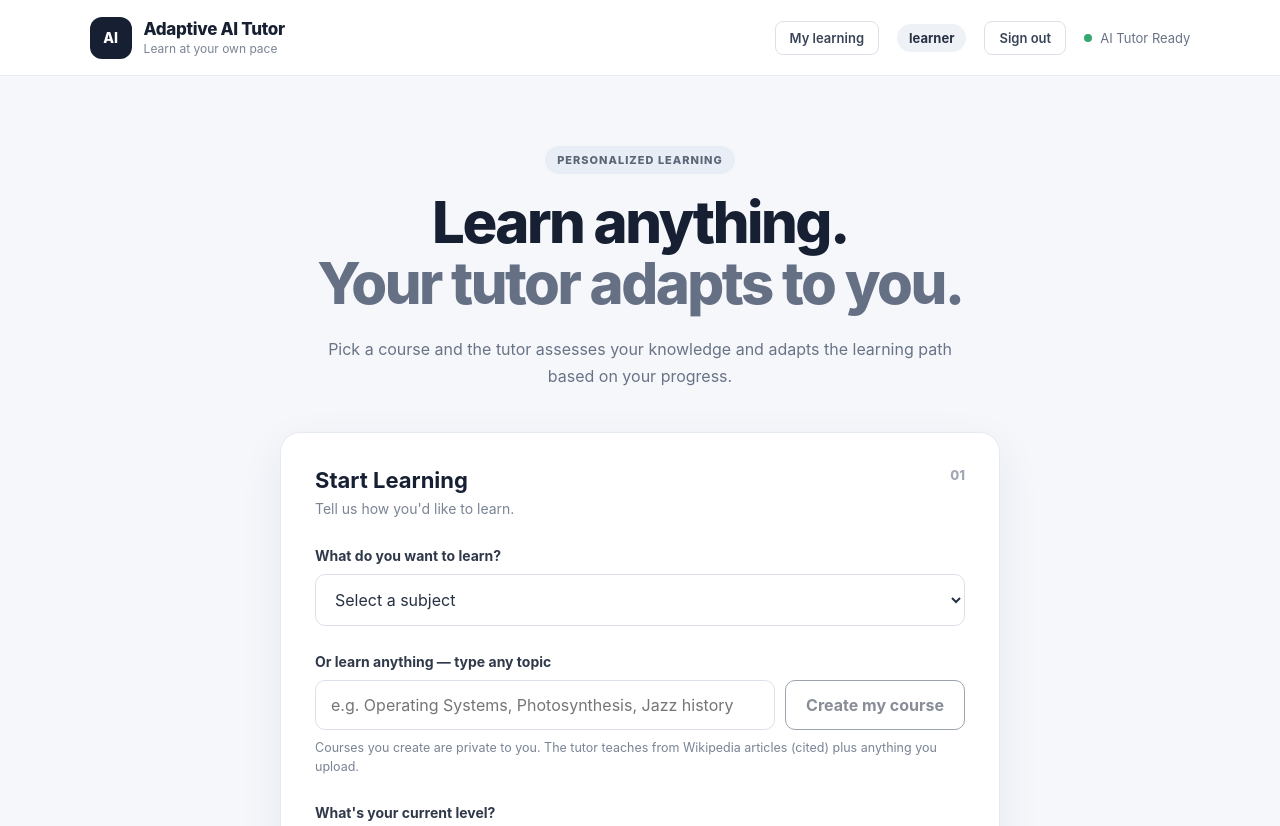
Test case: roles › creates a private course from any topic as a student
In the field labelled "Or learn anything — type any topic": (545, 705) [315,680,775,730], type "Photosynthesis"
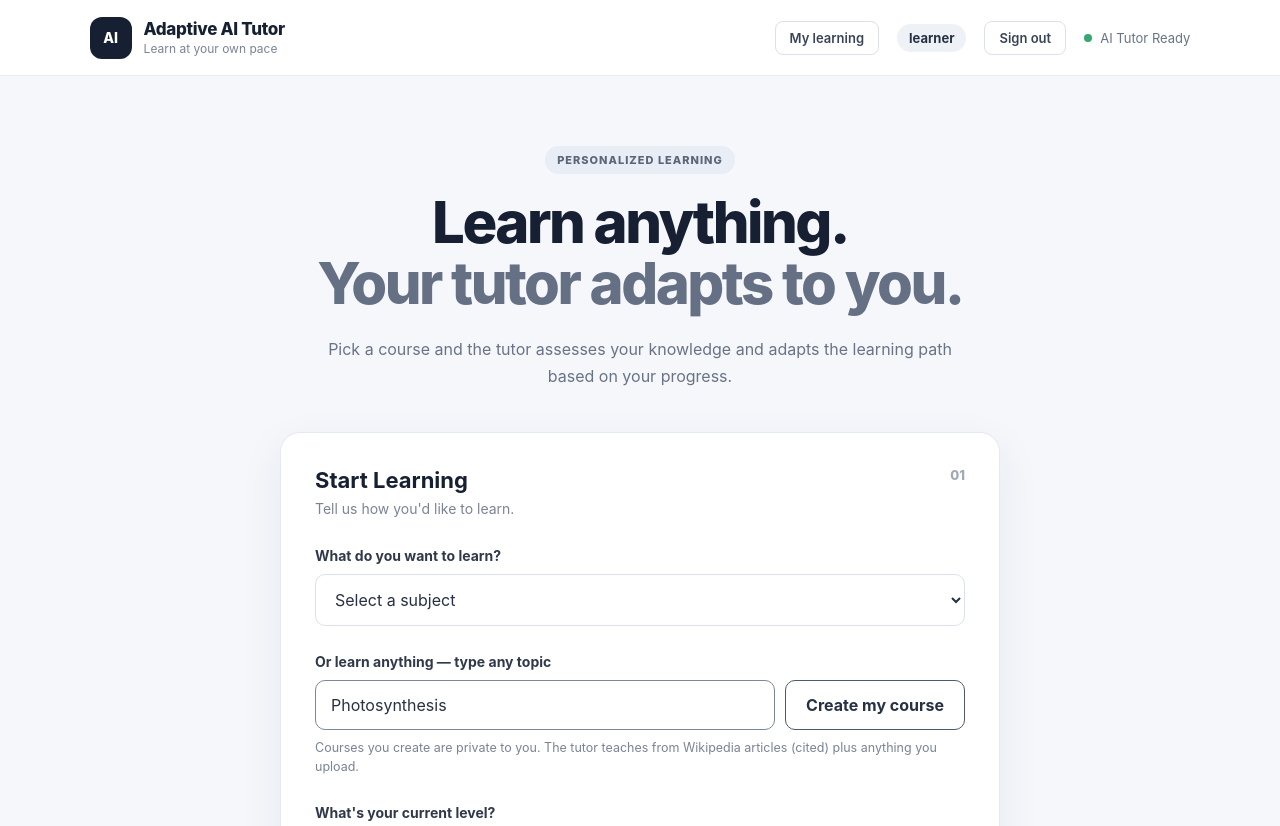
Click the button "Create my course": (875, 705) [785,680,965,730]
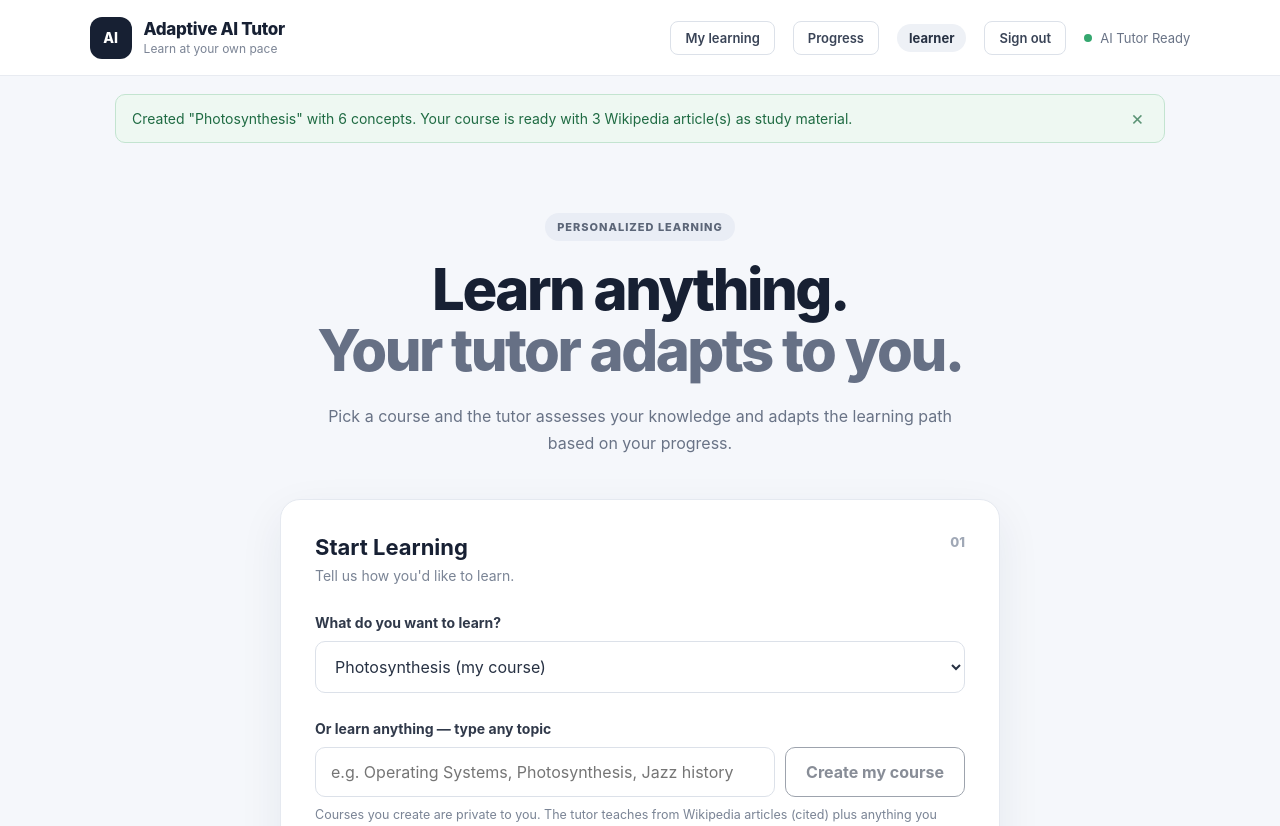
Now the 2nd message shows "3 wikipedia article", box [132,110,852,127]
Now the dropdown labelled "What do you want to learn?" shows "Photosynthesis (my course)", box [315,641,965,693]
